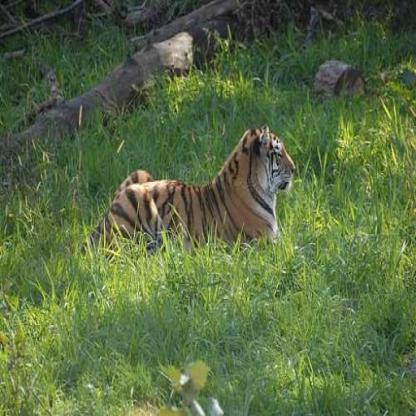Tiger: (101, 121, 323, 283)
